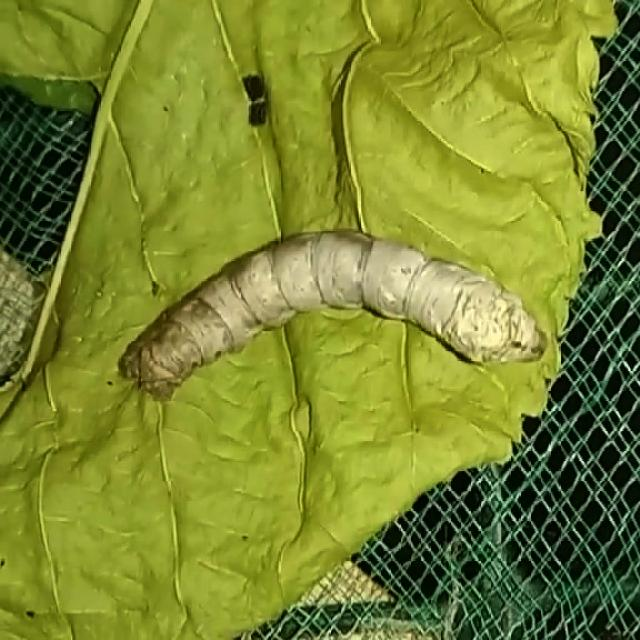Grasserie: (110, 196, 556, 478)
